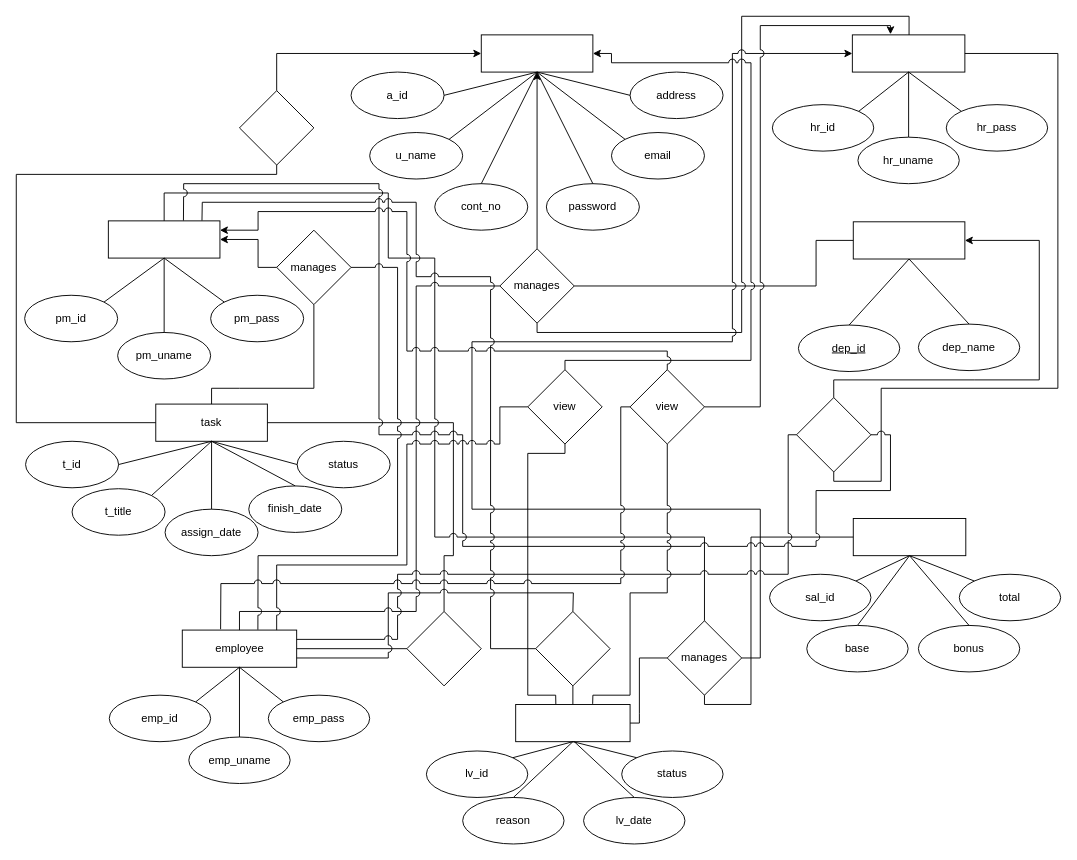
The diagram is 1077 pixels wide and 860 high, and some of its shapes have lost their labels. The shapes that lost their labels are listed below. From the top down, each one's centre as x and y in pixels, then its label:
(x=536, y=53): admin
(x=908, y=53): human_resource
(x=276, y=127): add
(x=163, y=239): project_manager
(x=908, y=240): department
(x=833, y=434): has
(x=909, y=537): salary
(x=443, y=648): works on
(x=572, y=648): apply_leave
(x=572, y=723): leave
